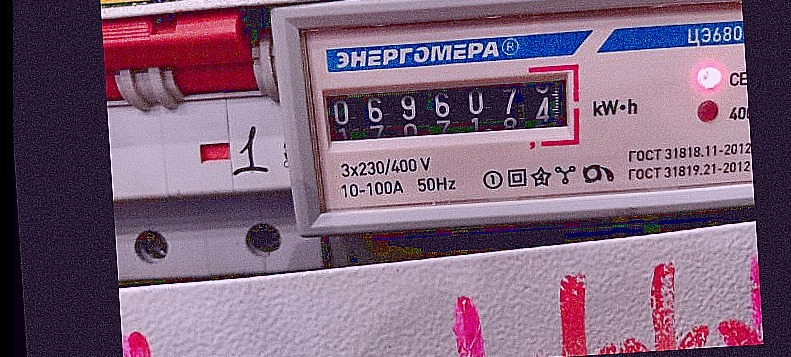0: (331, 97, 353, 126), (467, 85, 487, 115), (367, 95, 385, 122)
4: (534, 94, 553, 123)
6: (432, 87, 452, 118)
7: (500, 84, 520, 114)
9: (399, 91, 419, 121)
screen: (308, 59, 587, 160)
